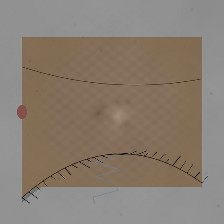foreign_body_visible: (44, 105, 93, 144)
